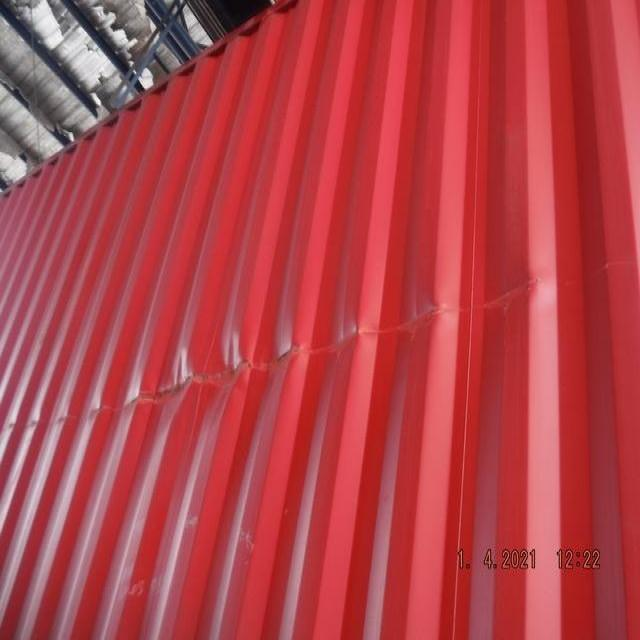Dent: (113, 311, 315, 427)
Minor-Dent: (323, 284, 460, 365)
